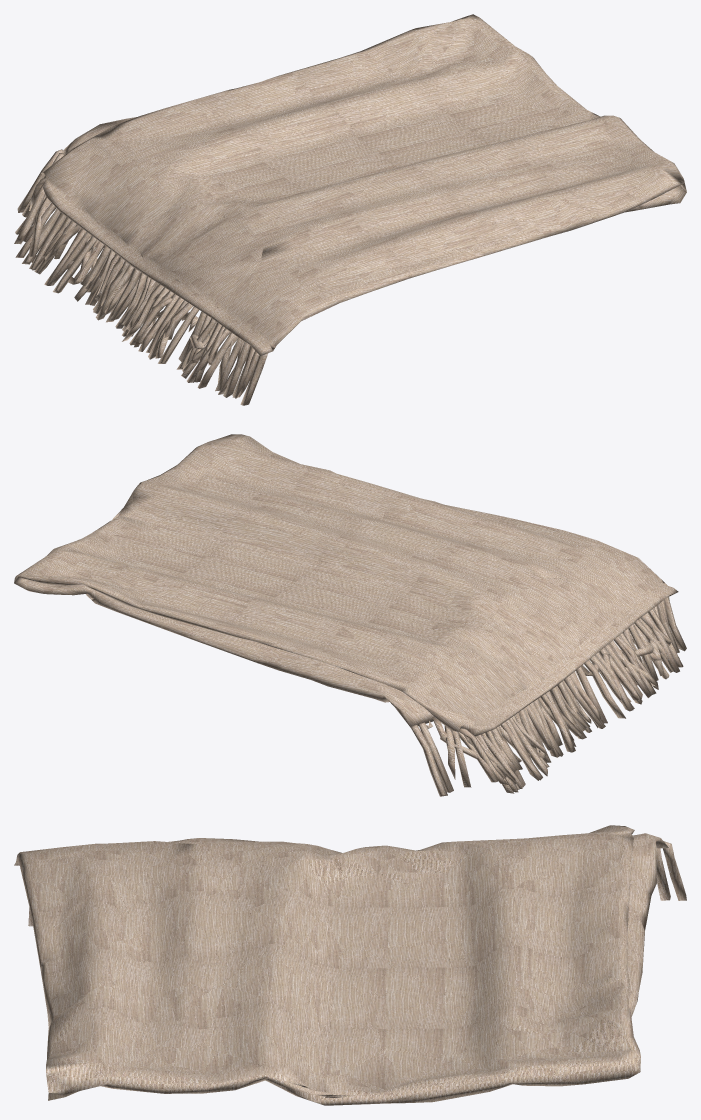
The model's file is Oat_Nomad_Throw.glb.
The picture shows the model from 3 angles, top to bottom: view 1: azimuth 30°, elevation 25°; view 2: azimuth 150°, elevation 25°; view 3: azimuth 270°, elevation 25°; orthographic projection. The views are drawn at different scales.
Visible parts, largest first — view 1: 3DGeom~1_Defintion; view 2: 3DGeom~1_Defintion; view 3: 3DGeom~1_Defintion.
Boxes of the visible parts, left/top/right/bottom form: 3DGeom~1_Defintion: left=14, top=14, right=686, bottom=405; 3DGeom~1_Defintion: left=14, top=434, right=686, bottom=796; 3DGeom~1_Defintion: left=14, top=825, right=686, bottom=1105.
Size of the model in its own units: 0.9198 by 0.2345 by 0.7758.
1 material, 1 textured.
